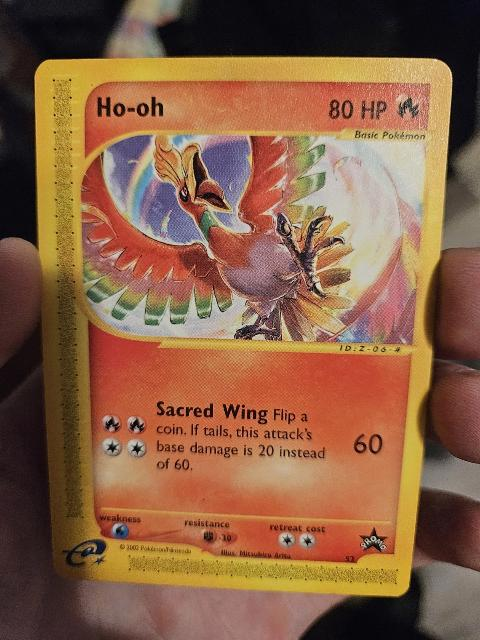Card: (29, 52, 460, 602)
Name: (93, 89, 168, 124)
